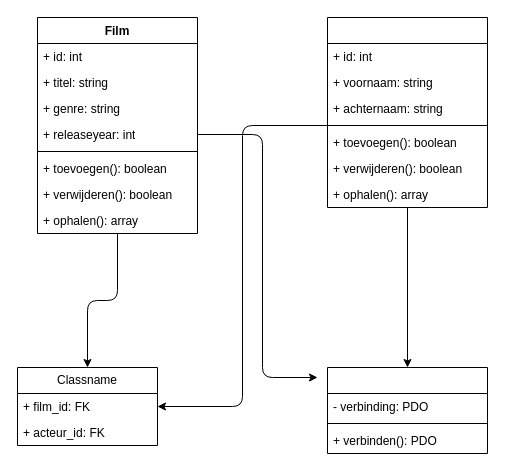
Image size: 505x474. Some labels were removed from this diagram. Each missing label, with the box of its shape:
Acteur: (326, 16, 488, 208)
Database: (326, 366, 488, 454)
